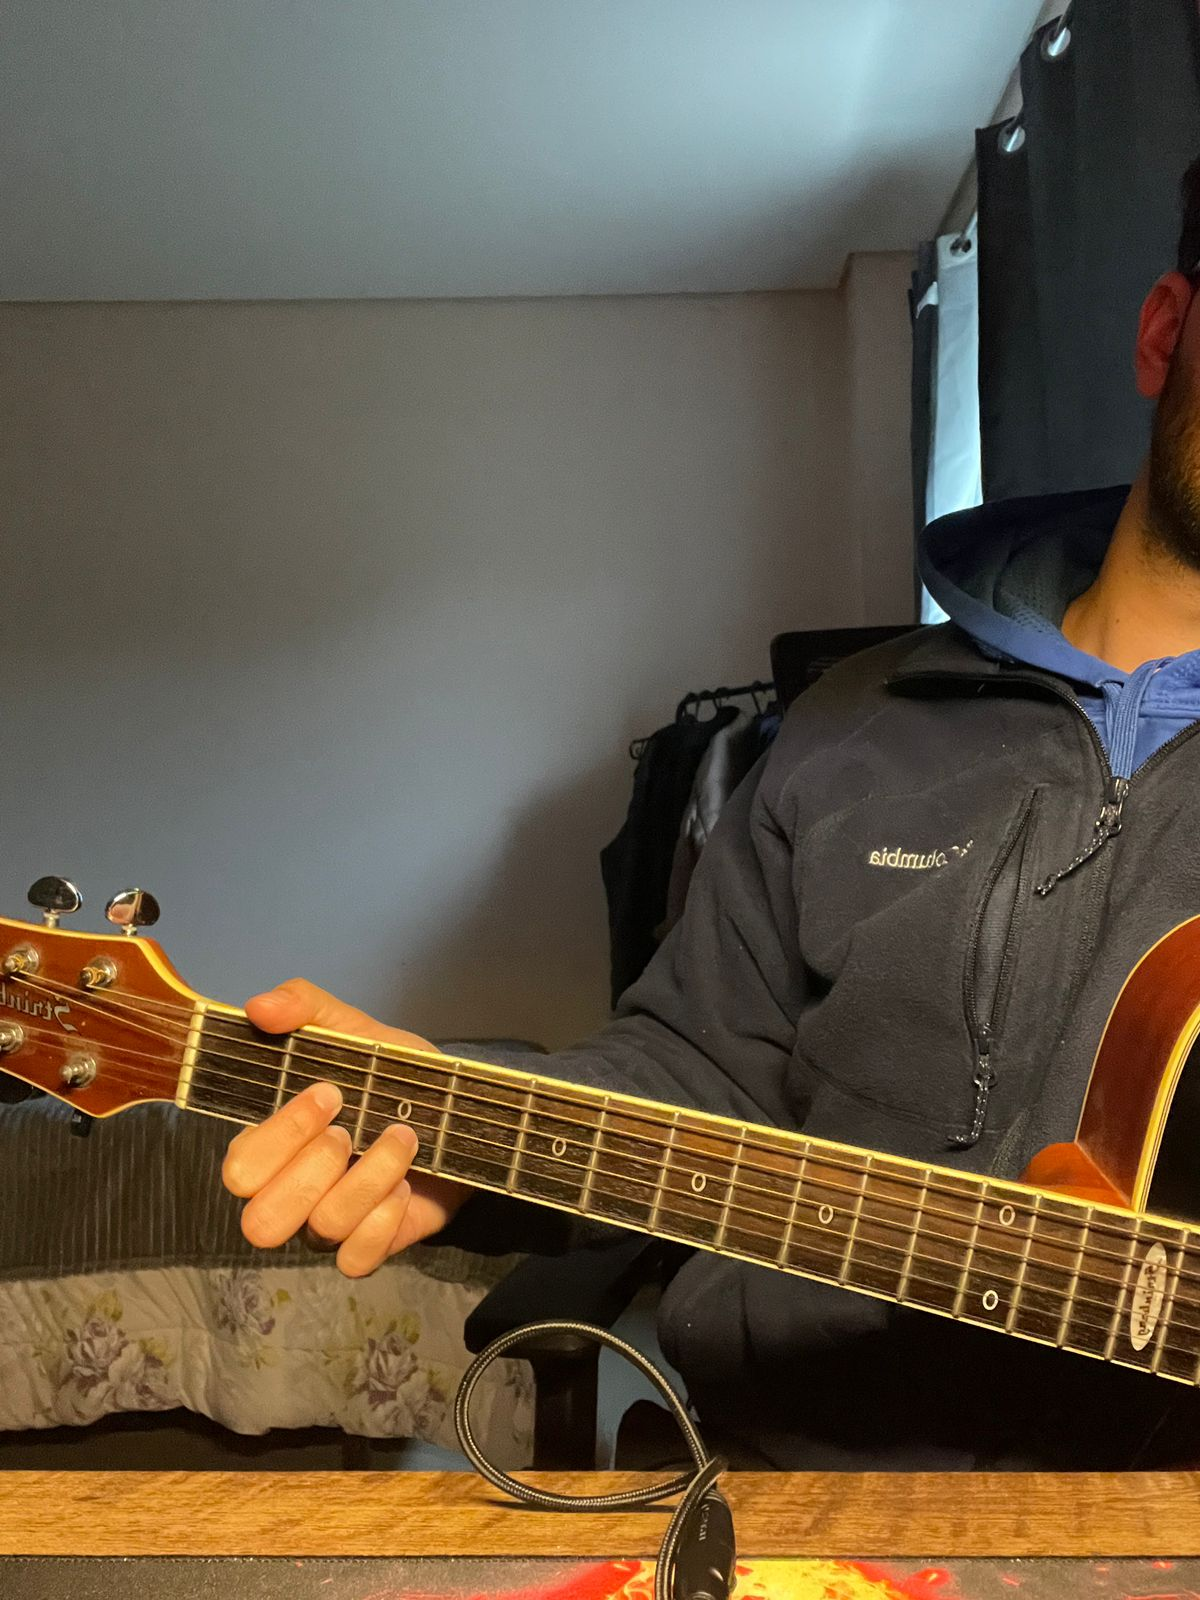re: (285, 1029, 454, 1191)
violao: (3, 862, 1200, 1437)
